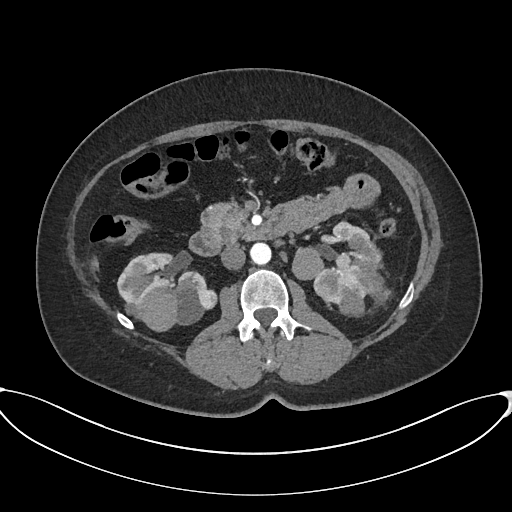Lesion: (194, 282, 217, 311)
